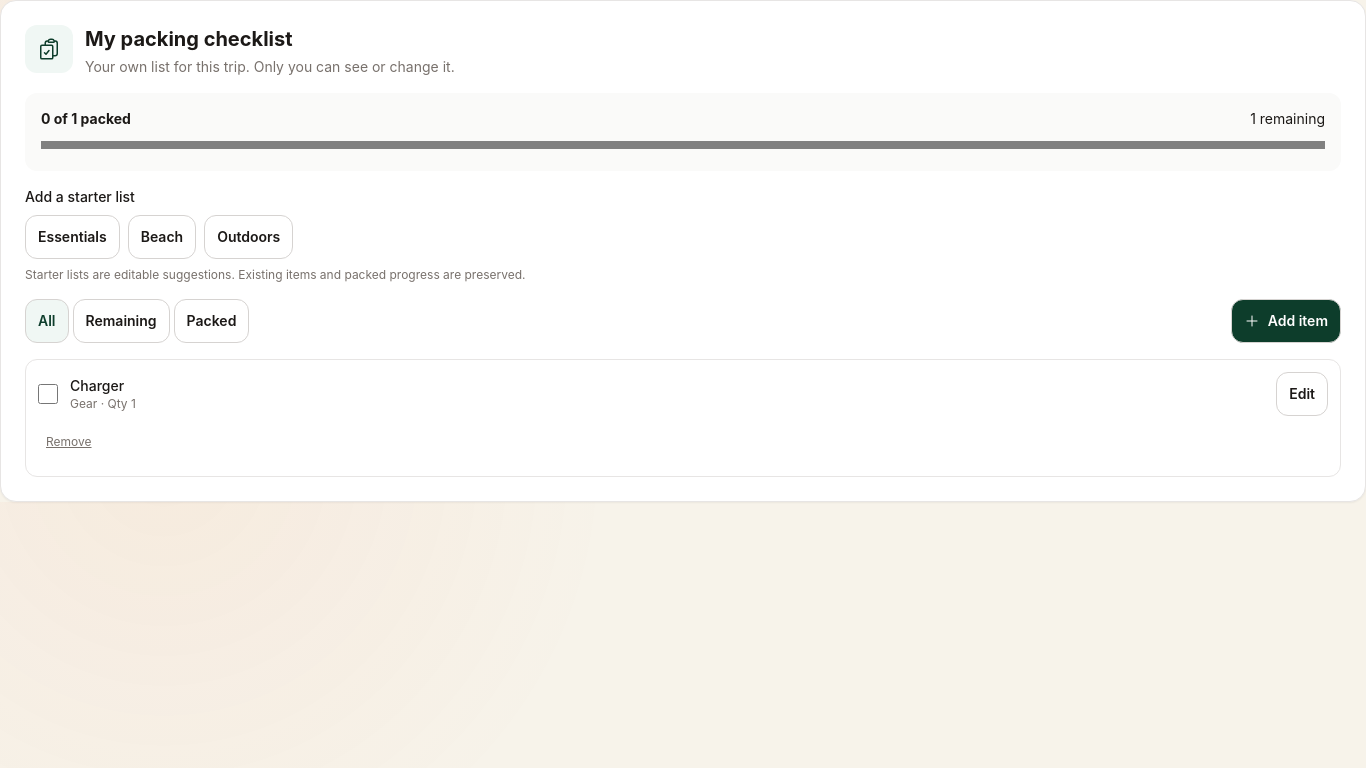
requires confirmation to remove an item
The image size is (1366, 768).
Click the button with aria-label "Remove Charger". click: (69, 442)
box: [38,420,100,464]
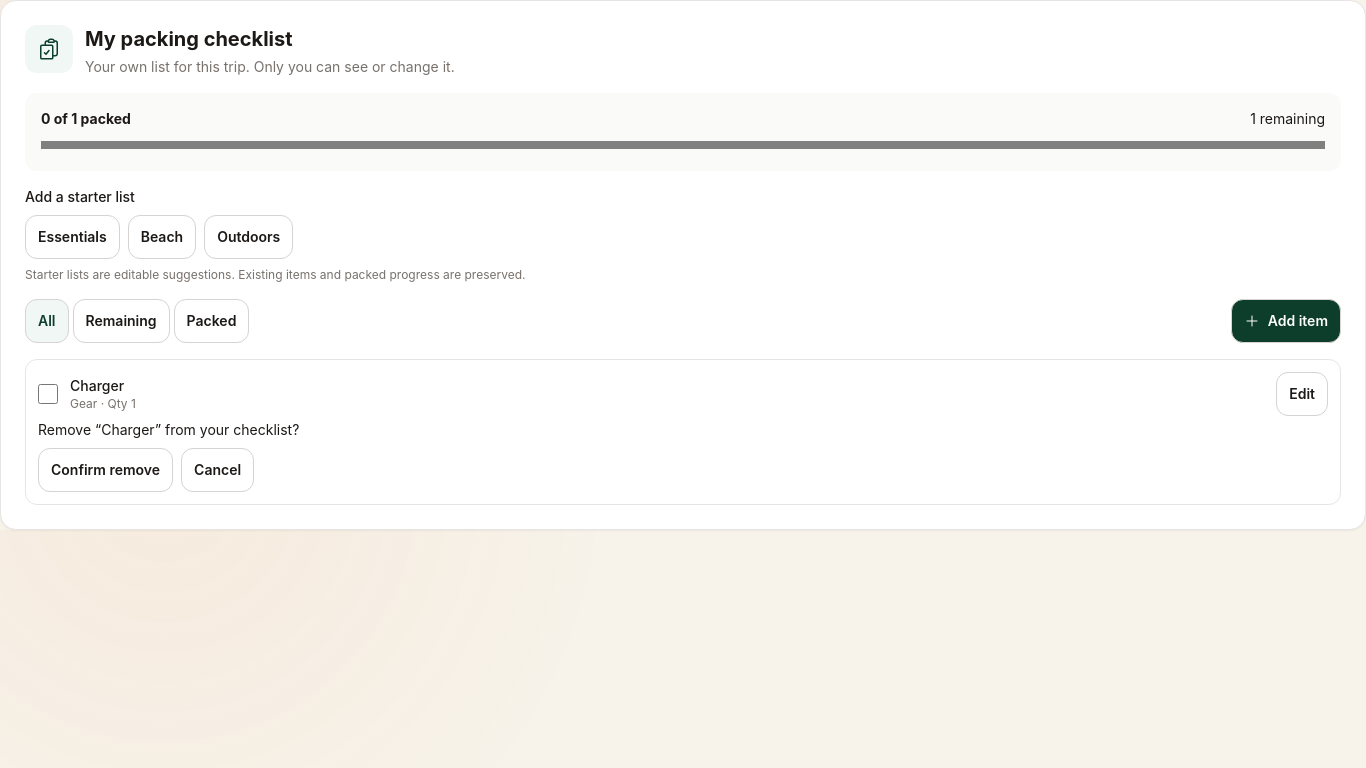
Click the button "Confirm remove". click: (106, 470)
box: [38,448,173,492]
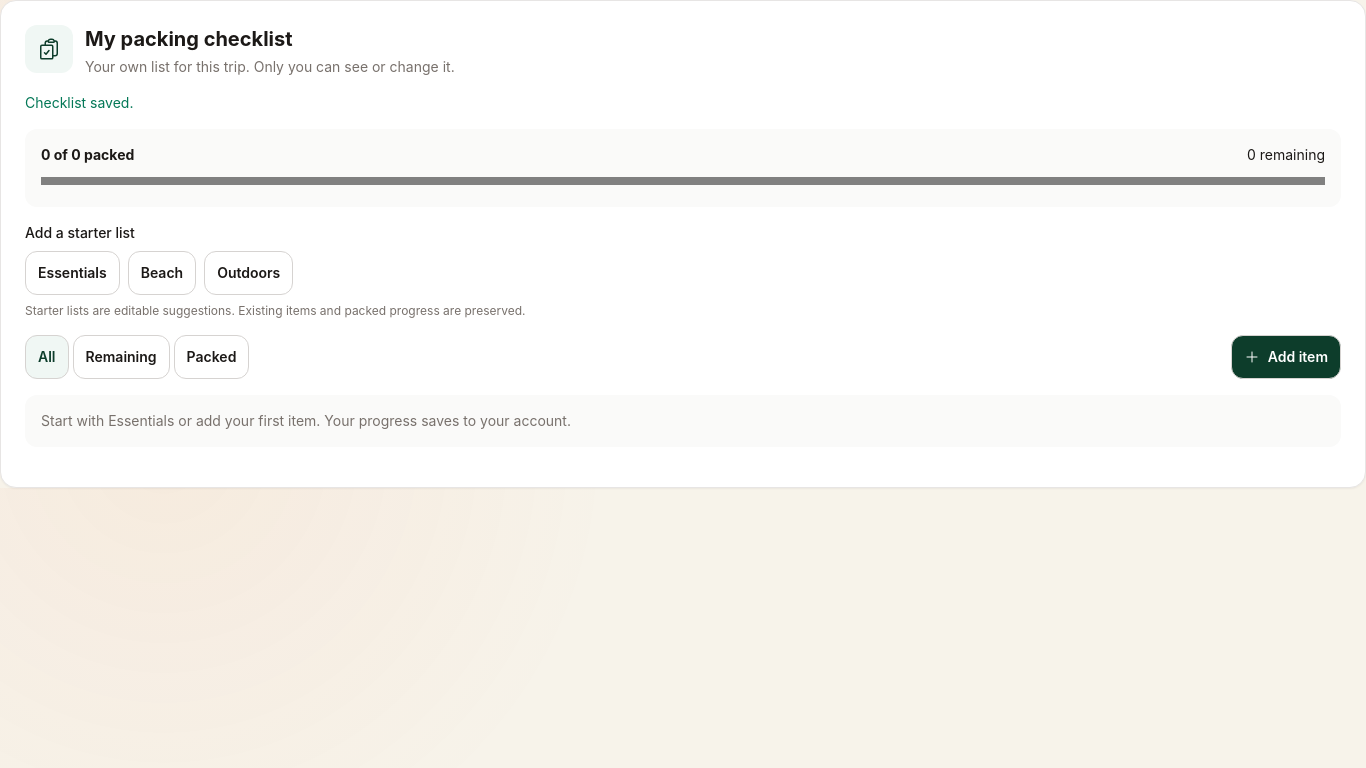
Check: the text "0 of 0 packed" is shown, box [41,145,134,165]
